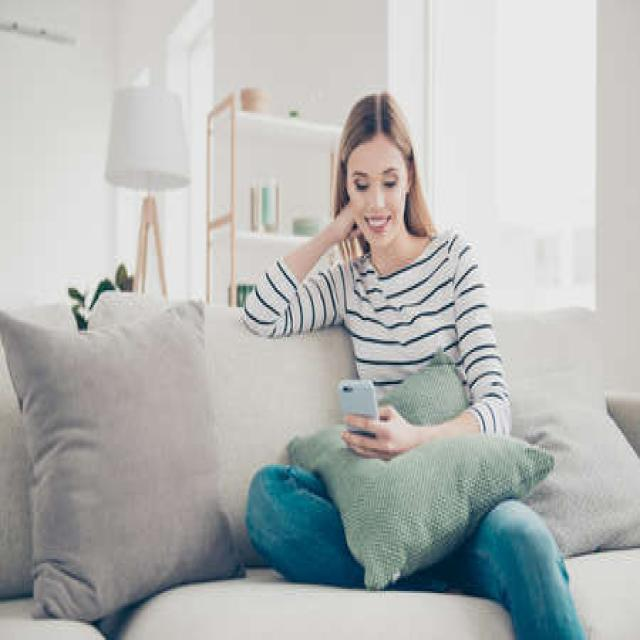smartphone-person: (239, 70, 562, 640)
